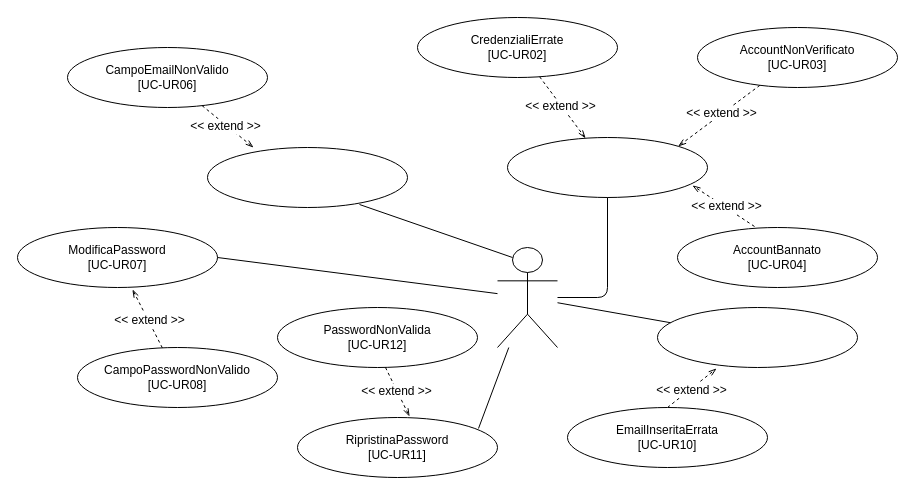
This 915x495 diagram has some shape labels left out. The shapes that lost their labels are listed below. From the top down, each one's centre as x and y in pixels, then its label:
At (x=307, y=177): "ModificaEmail [UC-UR05]".
At (x=607, y=167): "Log-in [UC-UR01]".
At (x=527, y=297): "Utente Registrato".
At (x=757, y=337): "RichiediRipristinoPassword [UC-UR09]".
